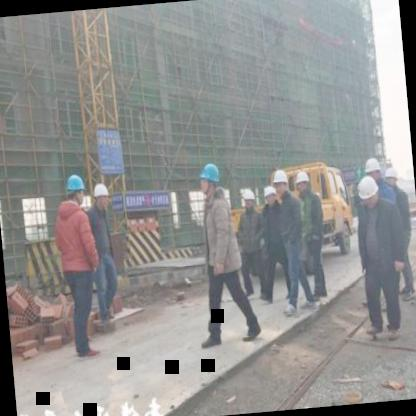helmet: (197, 159, 224, 202), (355, 174, 382, 212), (66, 172, 86, 210), (92, 182, 115, 212), (272, 167, 288, 200), (294, 169, 312, 196), (366, 156, 383, 184), (382, 164, 400, 190), (242, 186, 257, 212), (263, 183, 278, 207)
